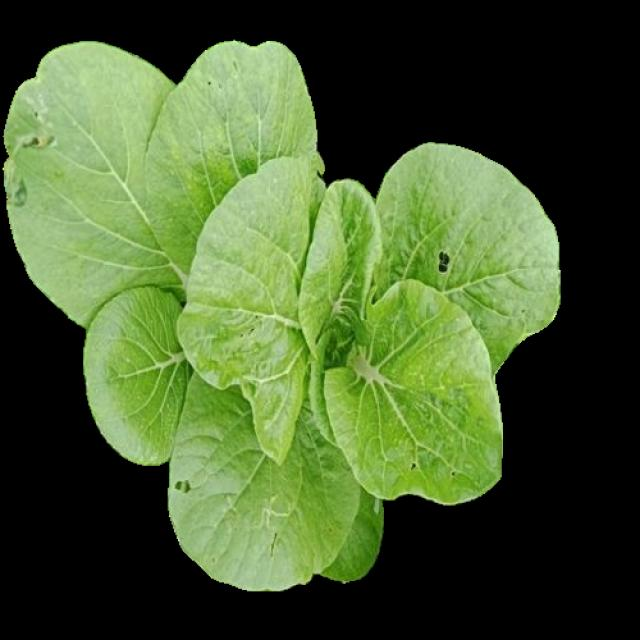mature: (1, 39, 558, 588)
unhealthy: (5, 44, 206, 316), (176, 158, 326, 472), (169, 372, 361, 584), (375, 147, 556, 364), (326, 282, 499, 503), (151, 44, 316, 258)
